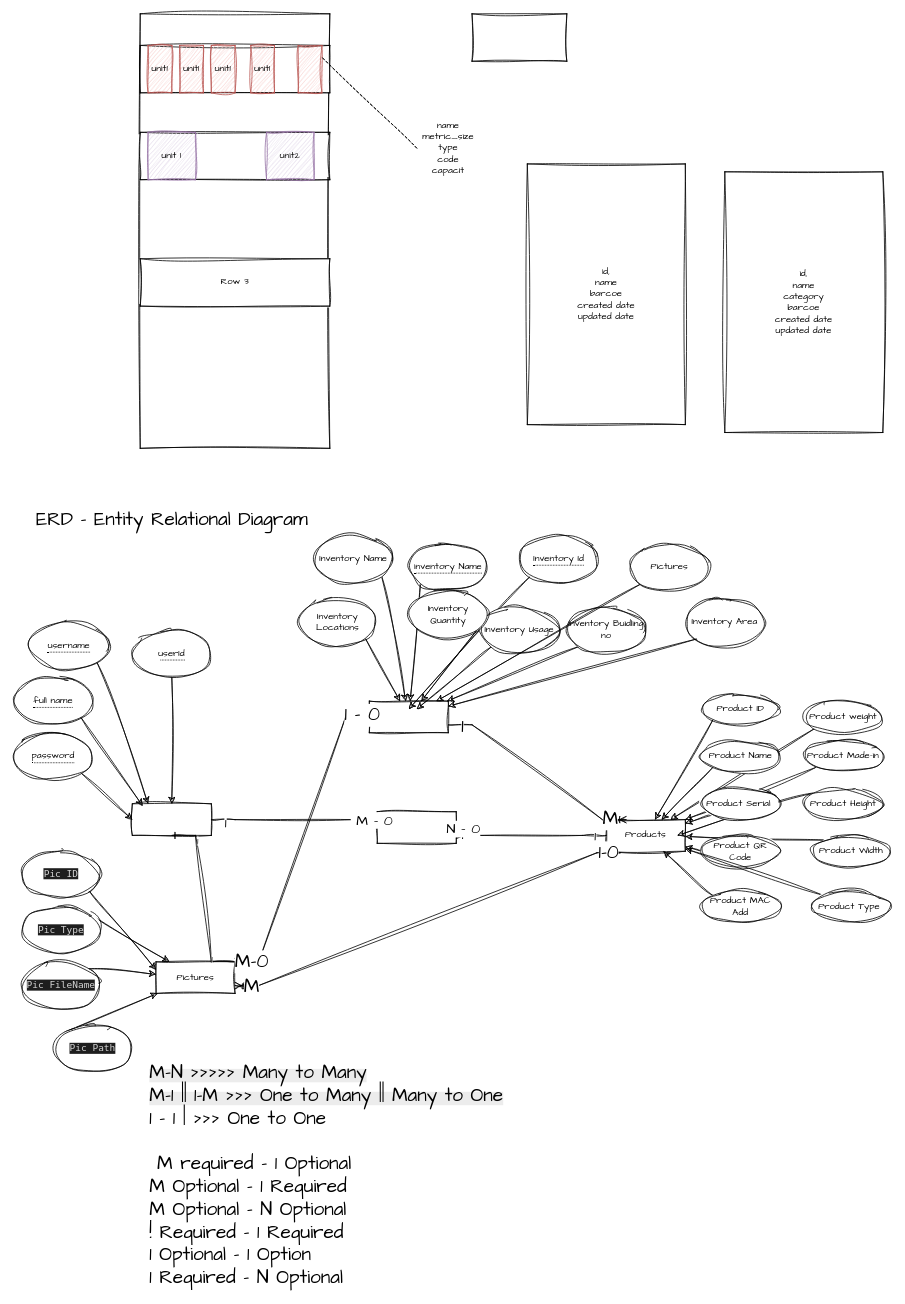
Image size: 905x1304. Some labels were removed from this diagram. The box of each missing label's shape, as (x1, y1, x2, y2) in pixels:
Assigned Users Products: (376, 811, 456, 843)
invbentory 1: (139, 13, 330, 448)
invbentory 2: (471, 13, 567, 61)
Inventory: (369, 700, 448, 733)
Row 1: (139, 45, 330, 93)
Row 2: (139, 132, 330, 180)
unit5: (297, 45, 322, 93)
users: (132, 803, 211, 835)
